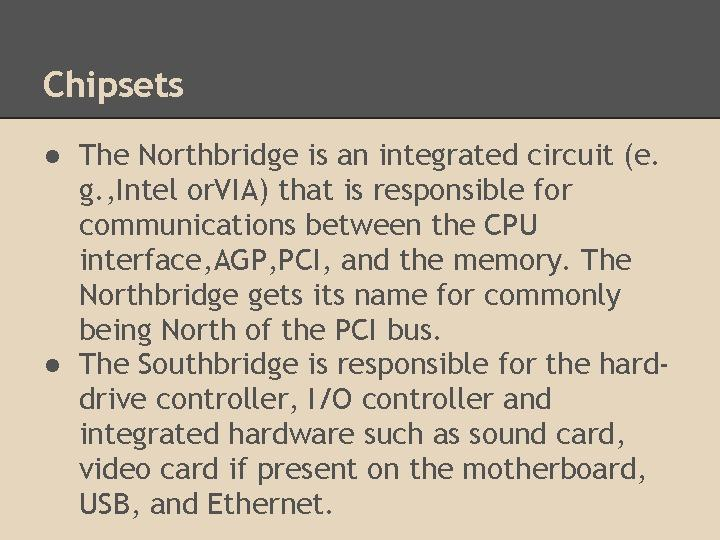paragraph: (35, 131, 692, 527)
title: (35, 61, 195, 111)
